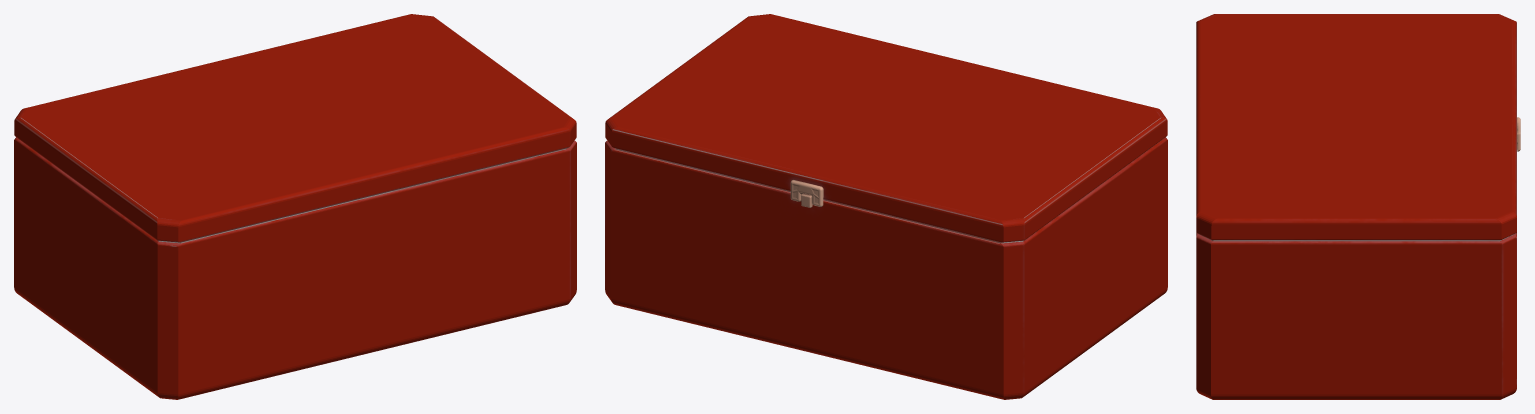
File: crago 1 fix.fbx
3 views of the same model, side by side, from view 1: azimuth 30°, elevation 25°; view 2: azimuth 150°, elevation 25°; view 3: azimuth 270°, elevation 25° (orthographic).
Visible parts, largest first — view 1: crate's; view 2: crate's; view 3: crate's.
Boxes of the visible parts, x1,y1,x2,y2 form: crate's: (14, 14, 576, 399); crate's: (605, 14, 1167, 399); crate's: (1196, 14, 1520, 399).
Size of the model in its own units: 157 by 64.36 by 104.
